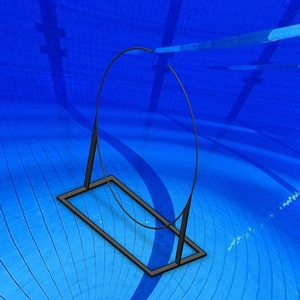circle: (55, 46, 209, 279)
